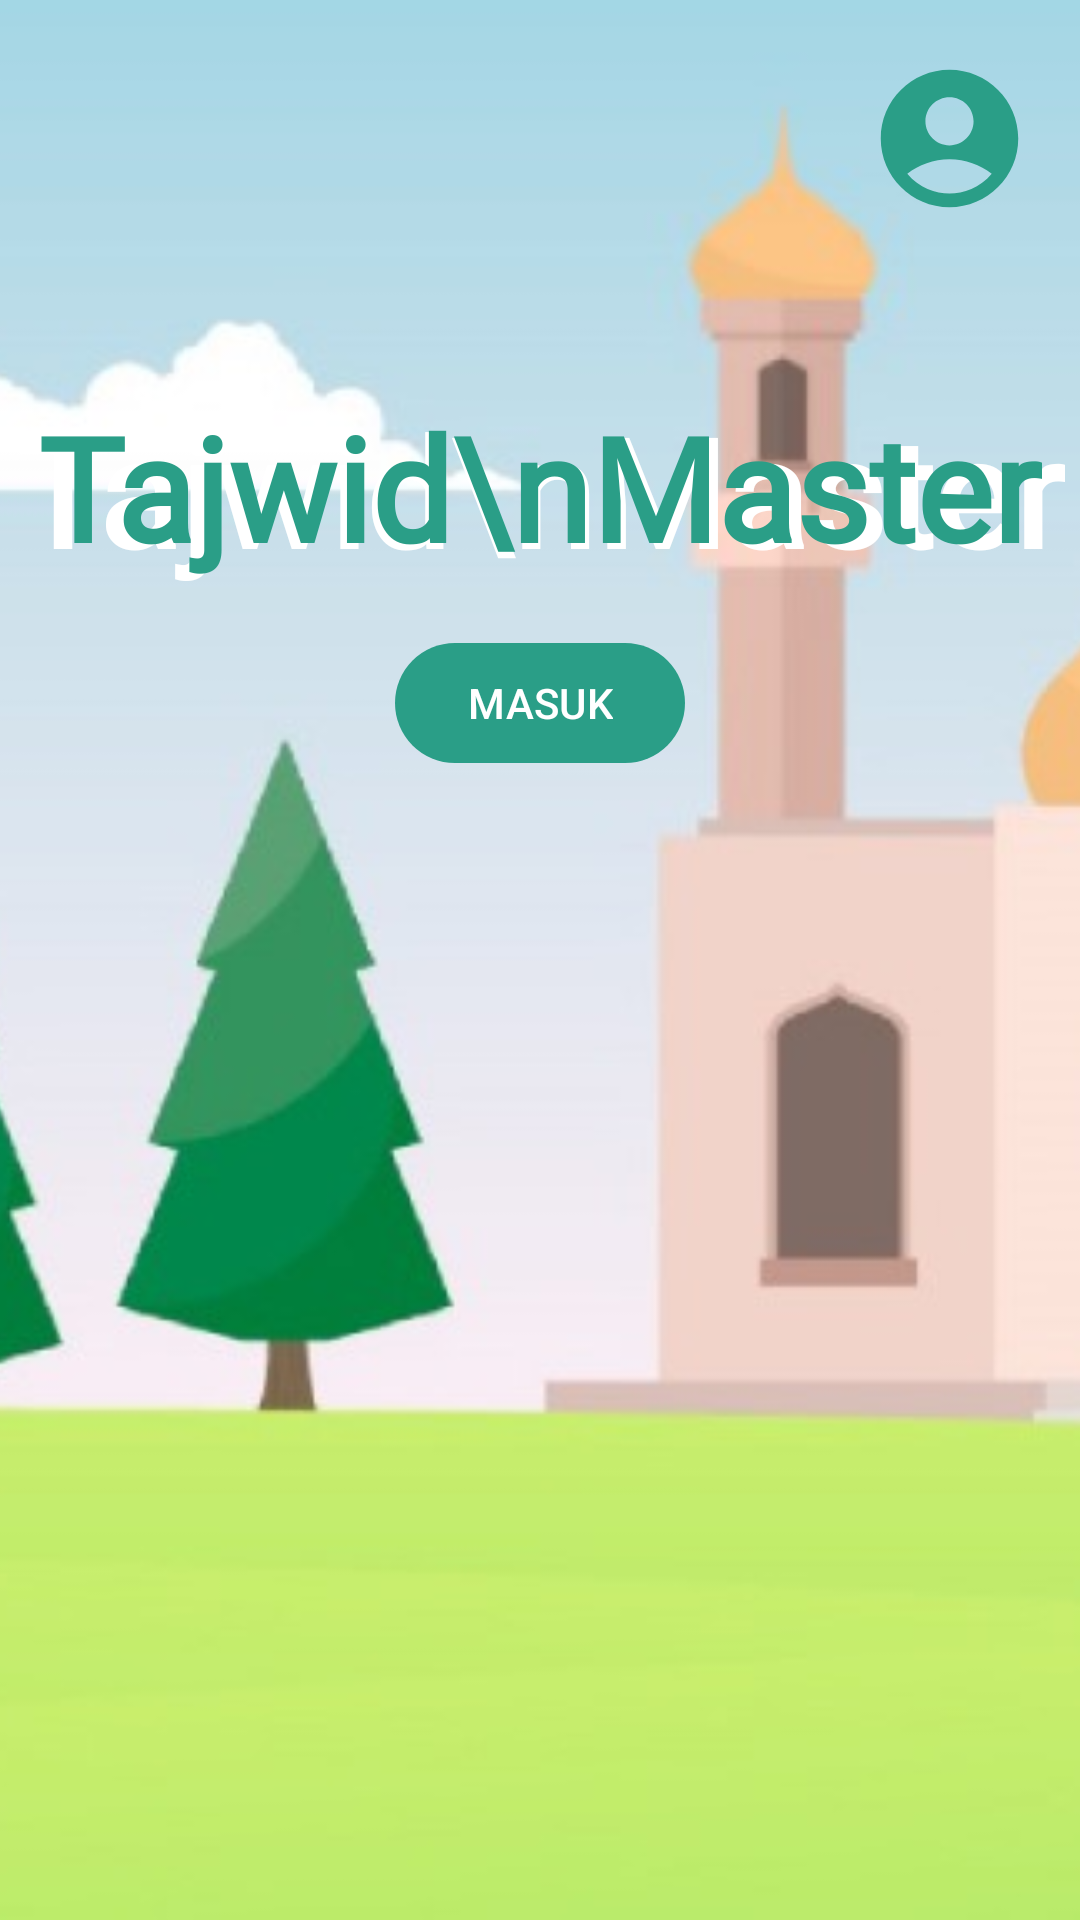

Icons on this 1080px×1920px Android screen, each with the point to tap as (x,y):
Ikon Akun: (949,138)
